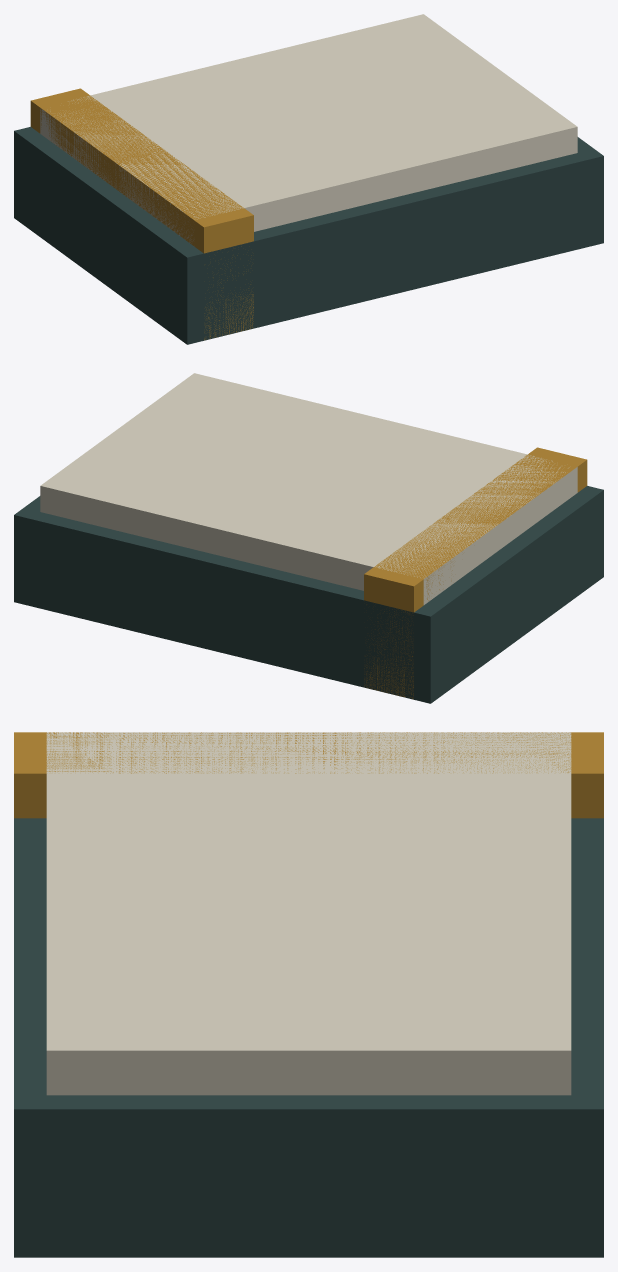
The model's file is kit_clue_ledger.glb.
3 views of the same model, one above another, from view 1: azimuth 30°, elevation 25°; view 2: azimuth 150°, elevation 25°; view 3: azimuth 270°, elevation 25° (orthographic). The views are drawn at different scales.
Parts seen in each view (by area): view 1: clue_ledger; view 2: clue_ledger; view 3: clue_ledger.
Part boxes in pixels (x1,y1,x2,y2): clue_ledger: (14, 14, 603, 344); clue_ledger: (14, 373, 603, 703); clue_ledger: (14, 732, 603, 1257).
Size of the model in its own units: 1.5 by 0.39 by 1.08.
